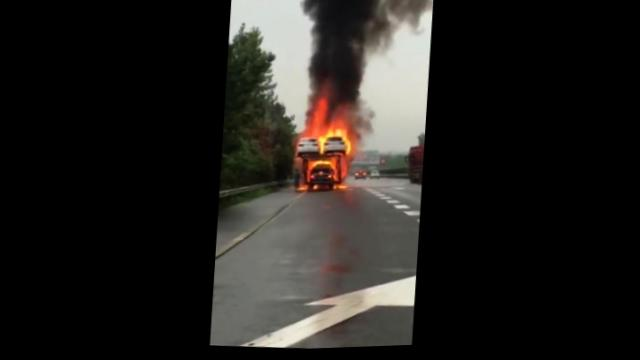fire: (307, 98, 327, 140), (327, 122, 349, 140), (312, 158, 333, 167), (343, 140, 353, 156), (315, 138, 323, 155), (298, 184, 309, 193), (333, 186, 345, 194)
